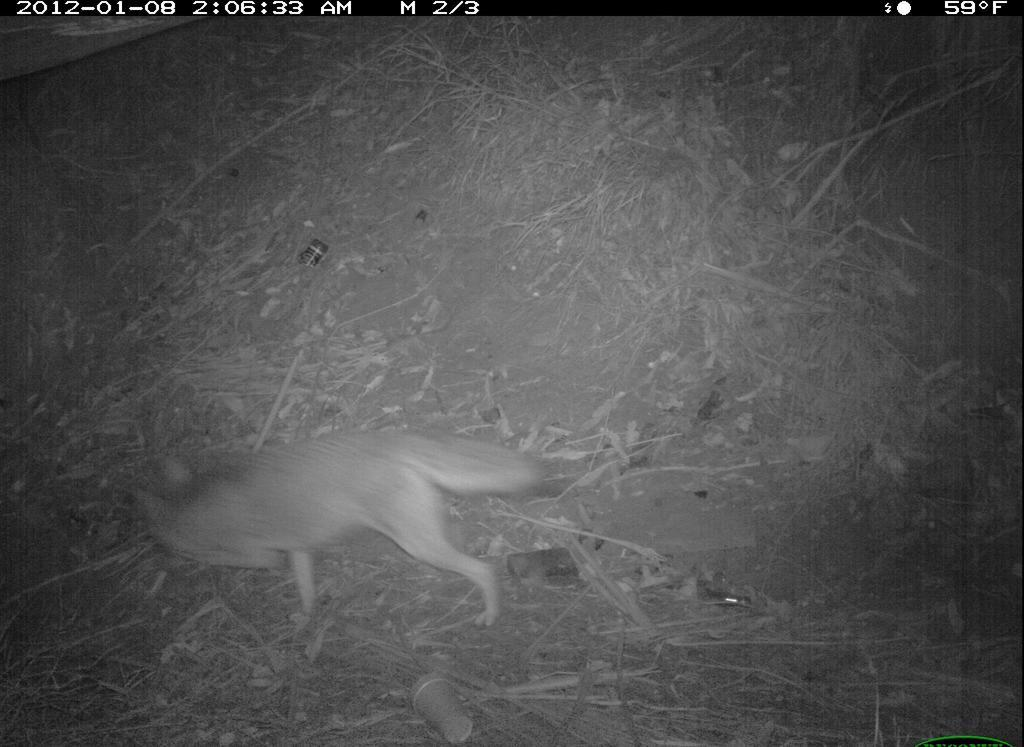coyote: (121, 419, 559, 635)
